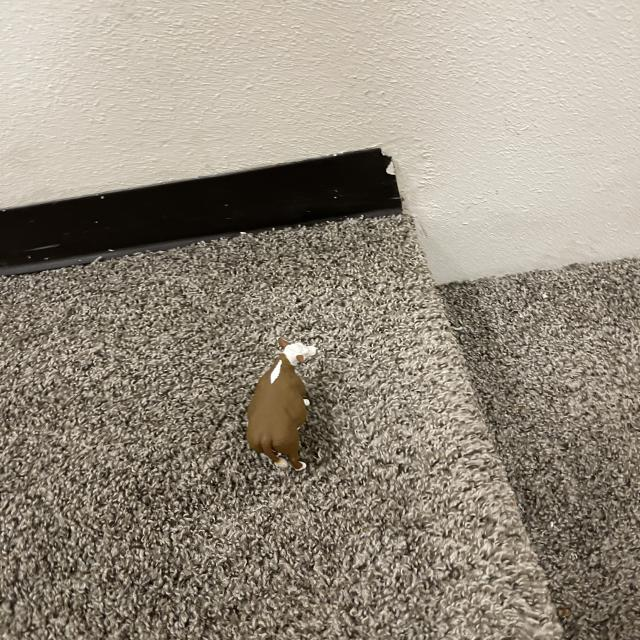cow: (242, 336, 318, 471)
